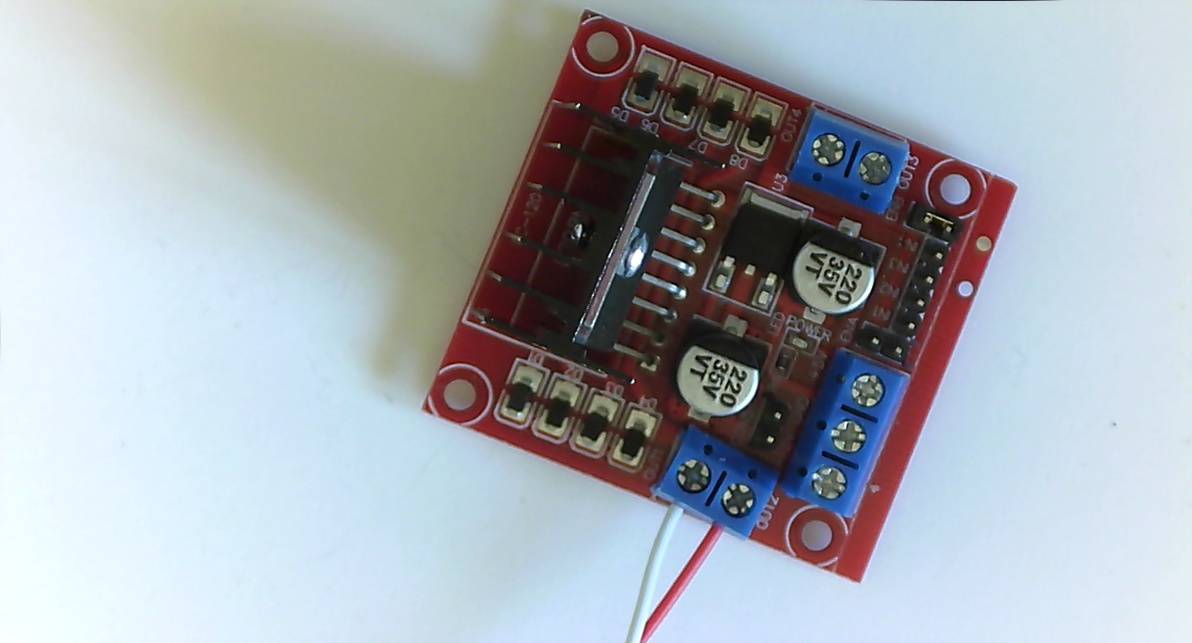l298n: (422, 9, 1019, 612)
